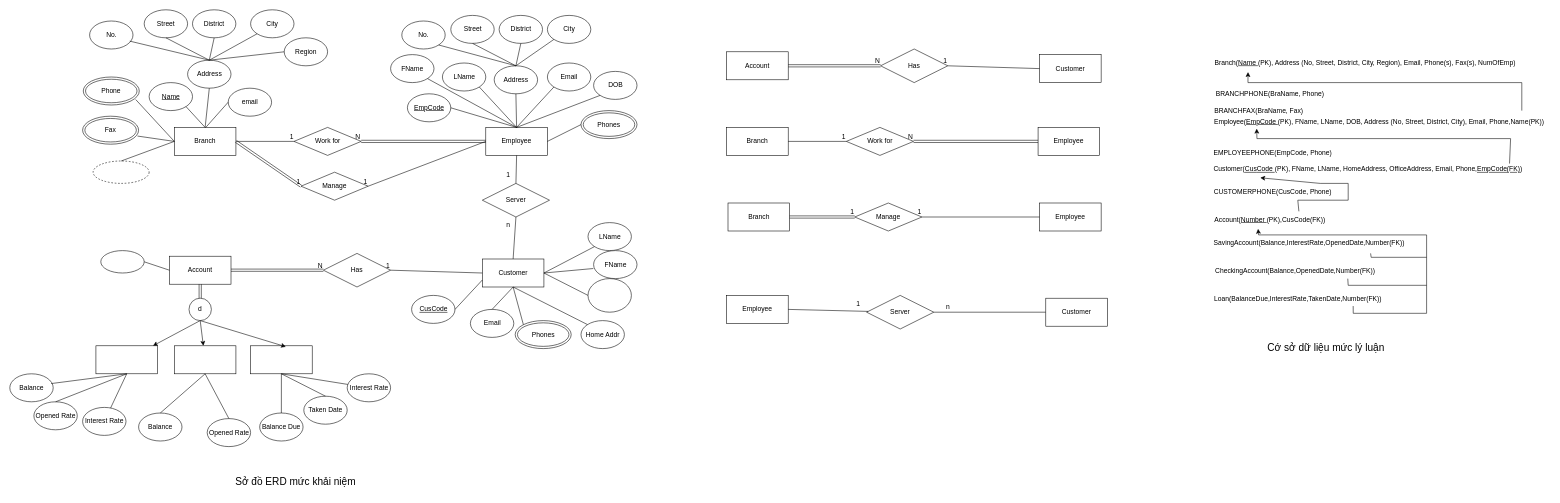
Image size: 1560x503. Some labels were removed from this diagram. Here are the shapes that lost their labels. From the top down, the box of each, then its label:
(93, 160, 149, 183): Num. Of Emp
(100, 250, 144, 273): Number
(587, 278, 631, 312): Ofifce Addr
(95, 345, 158, 374): Saving Account
(174, 345, 236, 374): Checking Account
(250, 345, 312, 374): Loan
